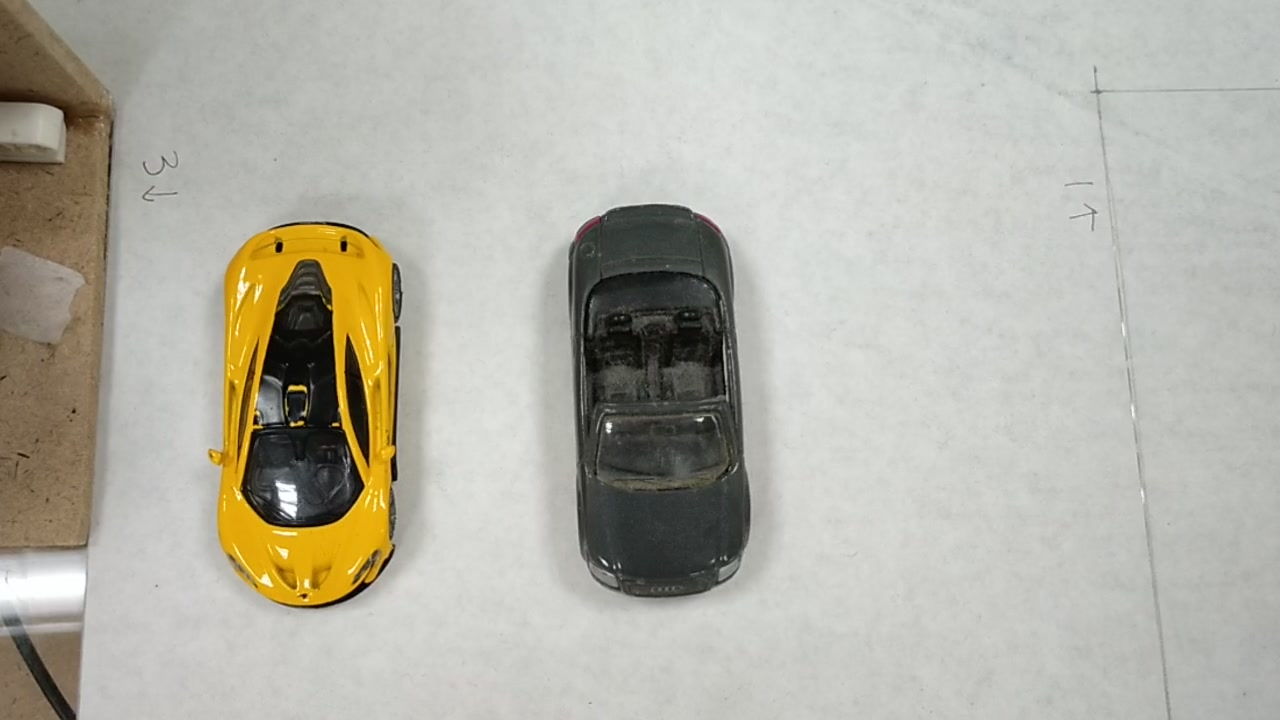car: (215, 221, 421, 585), (575, 206, 737, 575)
